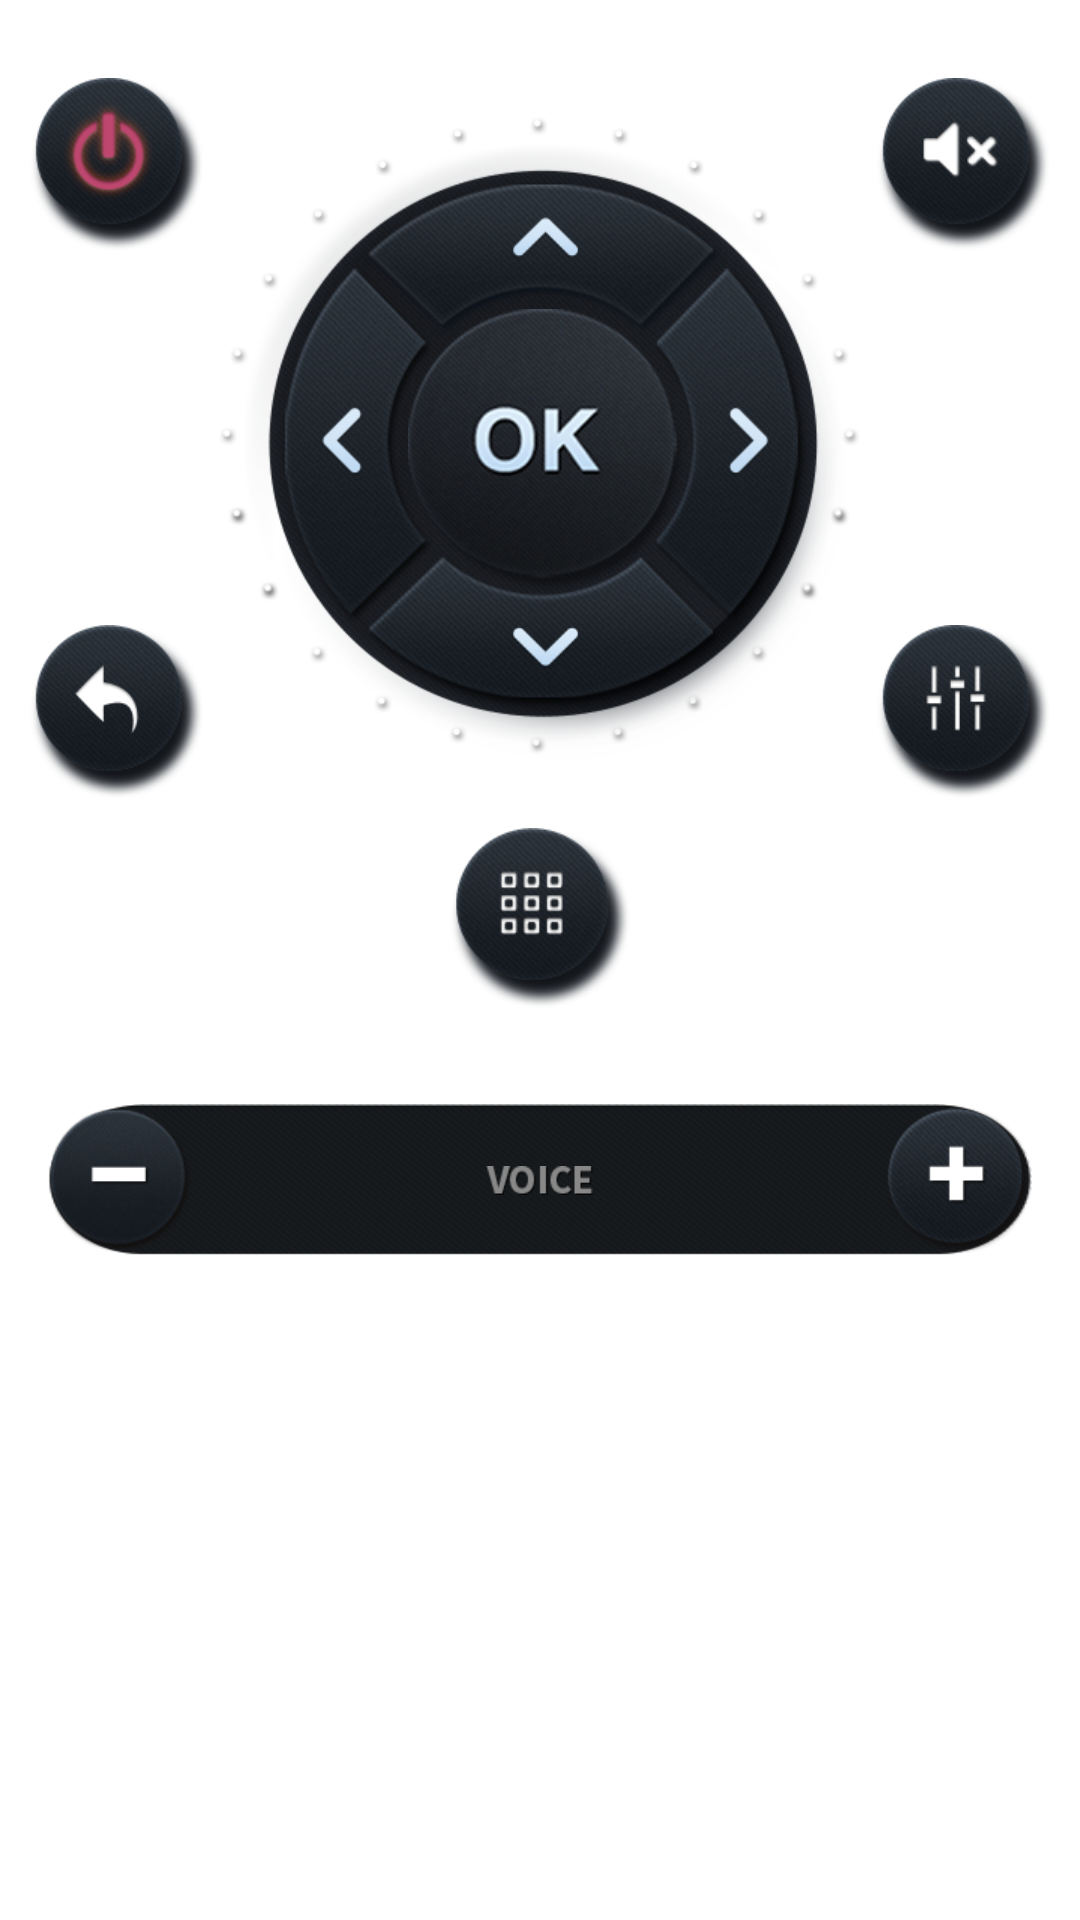

Named icons in this screenshot (1080px×1920px) and their centers, [x,y]:
remotetypearrowup: [544,259]
remotetypeback: [117,709]
remotetypemenu: [540,915]
remotetypemute: [963,161]
remotetypeshutdown: [117,162]
remotetypevolumeup: [958,1180]
yinxiao: [964,709]
